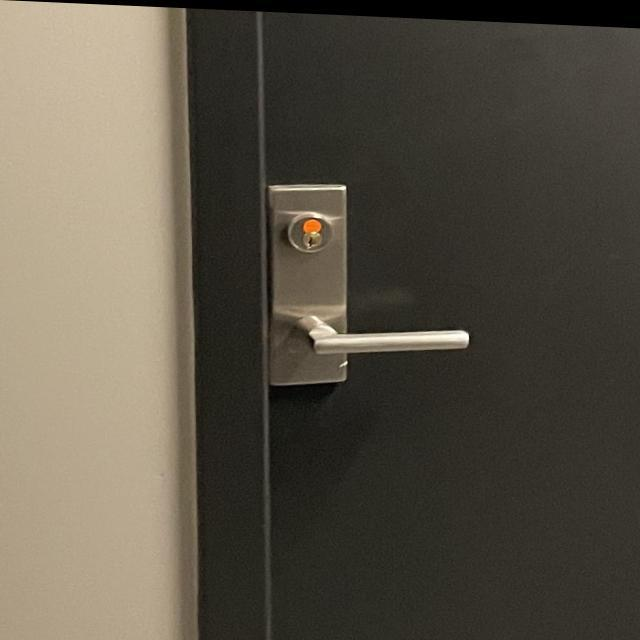door_handle: (272, 308, 480, 378)
